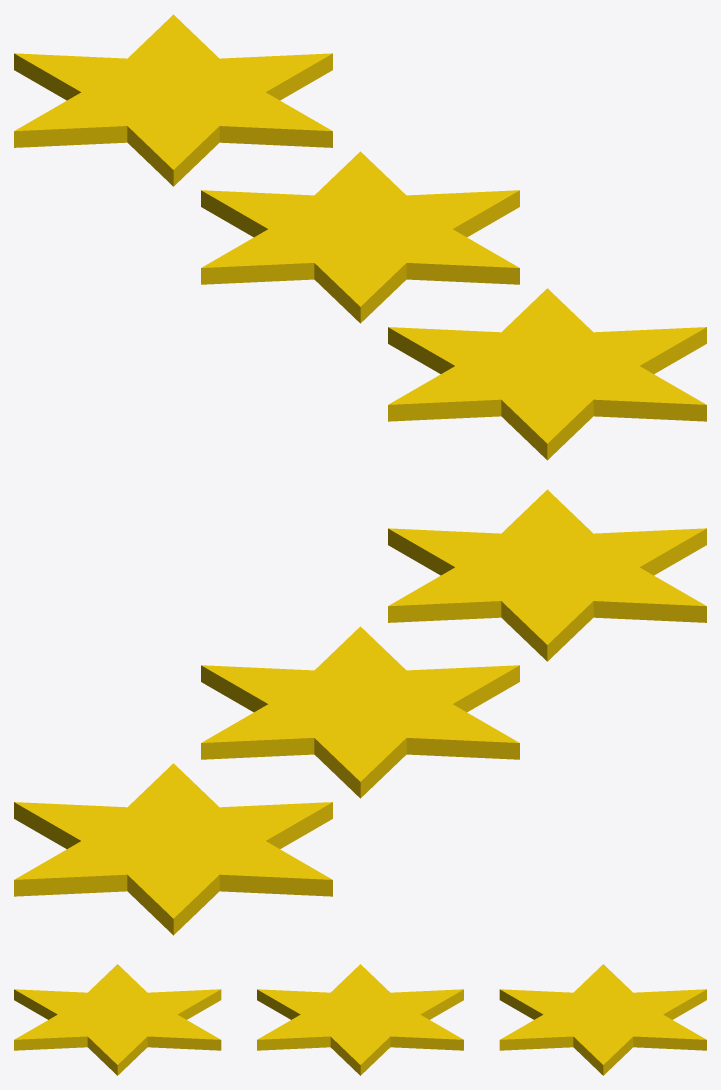
Rendered from Stars_03.FBX.
3 renders of one model, top to bottom at view 1: azimuth 30°, elevation 25°; view 2: azimuth 150°, elevation 25°; view 3: azimuth 270°, elevation 25°, orthographic. The views are drawn at different scales.
Visible parts, largest first — view 1: Stars_03; view 2: Stars_03; view 3: Stars_03.
Boxes of the visible parts, left/top/right/bottom form: Stars_03: left=14, top=14, right=706, bottom=460; Stars_03: left=14, top=489, right=706, bottom=935; Stars_03: left=14, top=964, right=706, bottom=1075.
Size of the model in its own units: 100 by 5 by 290.
